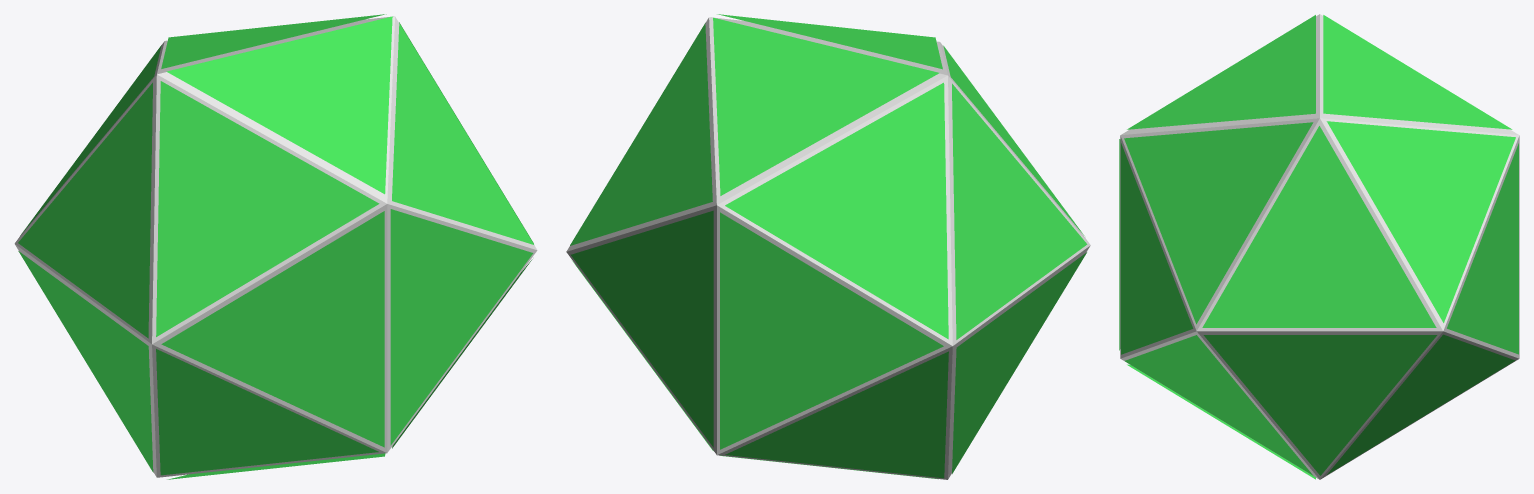
File: icosahedron2.glb
3 renders of one model, left to right at view 1: azimuth 30°, elevation 25°; view 2: azimuth 150°, elevation 25°; view 3: azimuth 270°, elevation 25°, orthographic. The views are drawn at different scales.
Visible parts, largest first — view 1: innerlayer1, outerlayer20; view 2: innerlayer1, outerlayer20; view 3: innerlayer1, outerlayer20.
Part boxes in pixels (x1=…): innerlayer1: x1=18, y1=14, x2=533, y2=479; outerlayer20: x1=14, y1=16, x2=537, y2=477; innerlayer1: x1=570, y1=14, x2=1087, y2=479; outerlayer20: x1=566, y1=17, x2=1090, y2=479; innerlayer1: x1=1119, y1=15, x2=1518, y2=479; outerlayer20: x1=1120, y1=14, x2=1519, y2=479.
Size of the model in its own units: 1.71 by 1.72 by 1.71.
